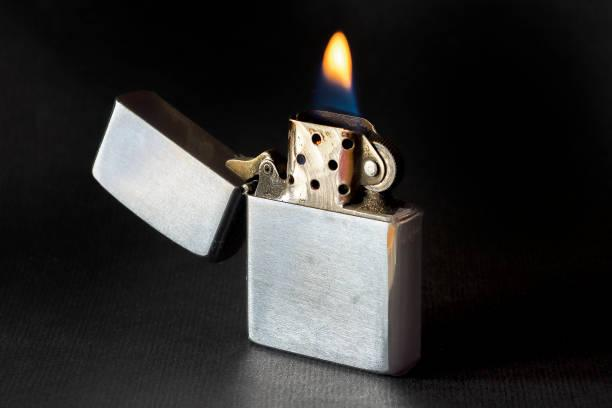Fire: (313, 31, 366, 117)
